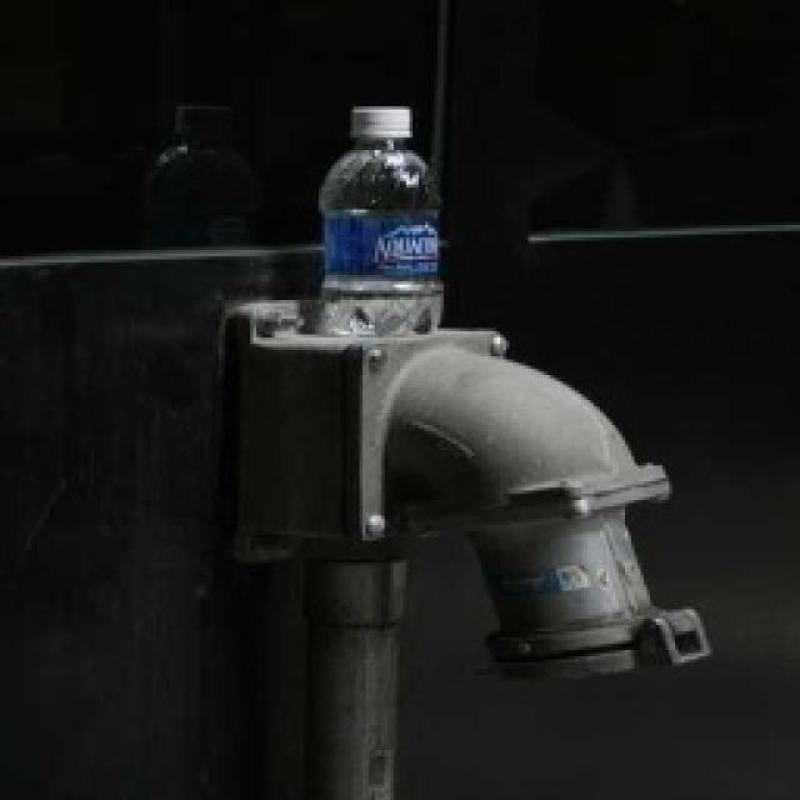botella: (318, 102, 447, 342)
